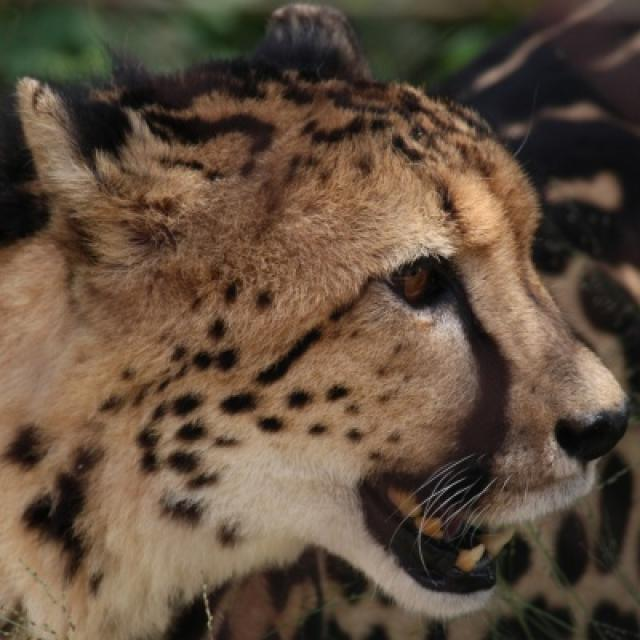Cheetah: (0, 3, 638, 638)
